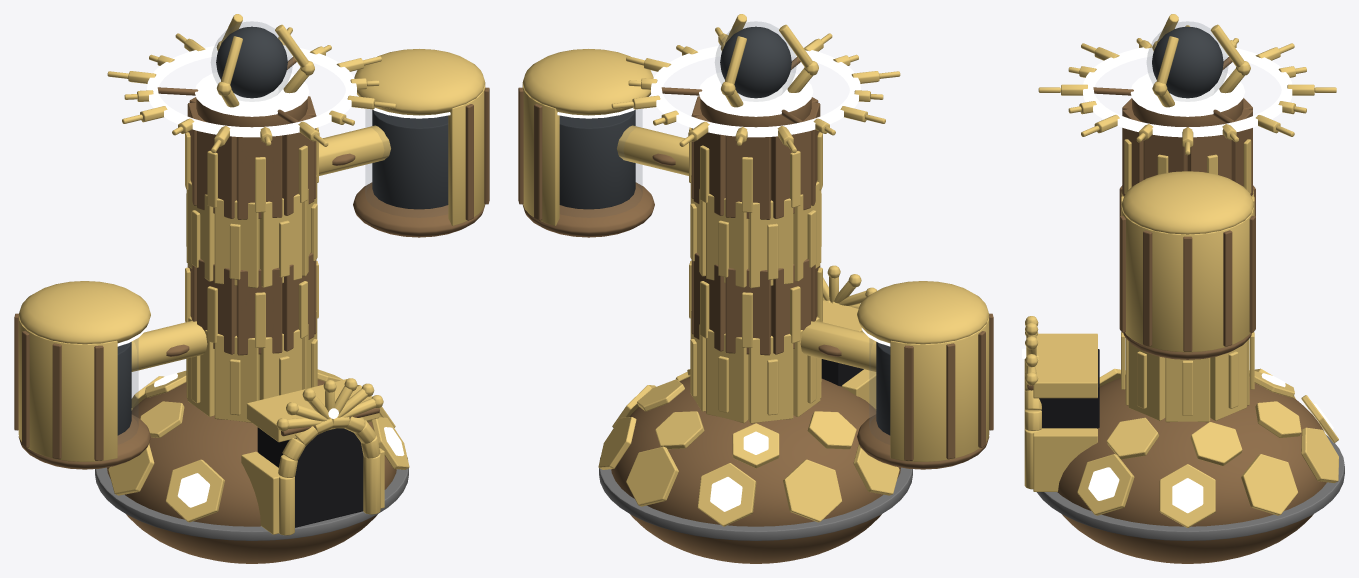
File: SOLAR_Vat_T2.glb
The picture shows the model from 3 angles, left to right: view 1: azimuth 30°, elevation 25°; view 2: azimuth 150°, elevation 25°; view 3: azimuth 270°, elevation 25°; orthographic projection.
Visible parts, largest first — view 1: SOLAR_Vat_T2; view 2: SOLAR_Vat_T2; view 3: SOLAR_Vat_T2.
Part boxes in pixels (left/top/right/bottom): SOLAR_Vat_T2: left=14, top=14, right=489, bottom=563; SOLAR_Vat_T2: left=518, top=14, right=993, bottom=563; SOLAR_Vat_T2: left=1022, top=14, right=1344, bottom=563.
Size of the model in its own units: 5.87 by 6.36 by 3.6.
